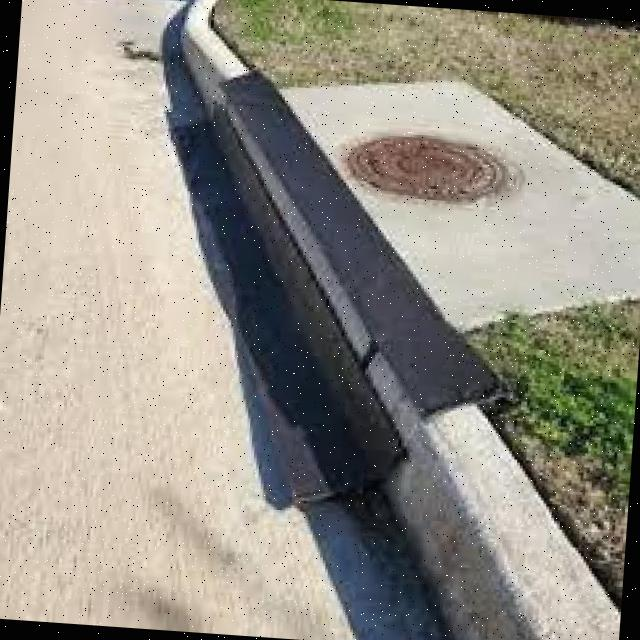curb: (175, 18, 622, 640)
